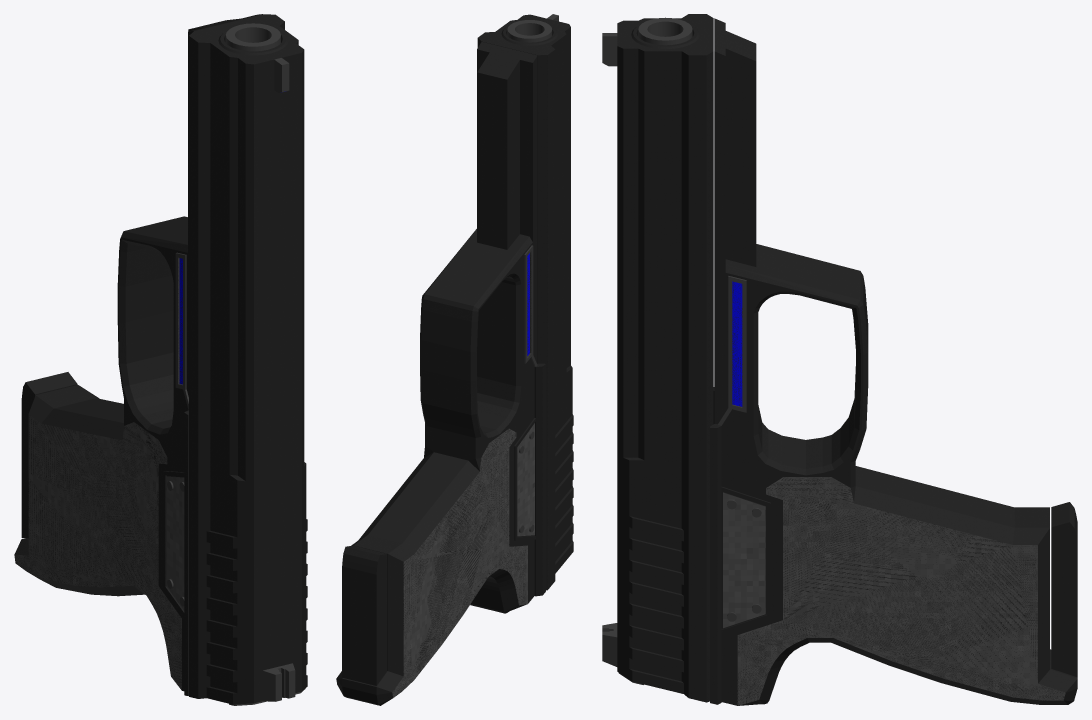
The model's file is Untitled_cyberpistol_corp_2m.fbx.
The picture shows the model from 3 angles, left to right: view 1: azimuth 30°, elevation 25°; view 2: azimuth 150°, elevation 25°; view 3: azimuth 270°, elevation 25°; orthographic projection. The views are drawn at different scales.
Parts seen in each view (by area): view 1: ID281, ID218 (×2), ID4, ID17, ID194, ID226, ID250, ID75, ID242, ID275, ID67, ID289 (+1 smaller); view 2: ID4, ID218 (×2), ID281, ID17, ID226, ID194, ID75, ID242; view 3: ID281, ID210 (×2), ID4, ID17, ID141, ID226, ID93, ID57, ID242.
Boxes of the visible parts, left/top/right/bottom form: ID281: left=189, top=14, right=307, bottom=704; ID218 (×2): left=14, top=414, right=181, bottom=690; ID4: left=14, top=14, right=262, bottom=695; ID17: left=119, top=239, right=173, bottom=434; ID194: left=166, top=476, right=184, bottom=610; ID226: left=21, top=372, right=77, bottom=538; ID250: left=262, top=663, right=295, bottom=701; ID75: left=175, top=252, right=188, bottom=410; ID242: left=225, top=23, right=280, bottom=51; ID275: left=274, top=58, right=289, bottom=93; ID67: left=179, top=258, right=182, bottom=384; ID289: left=218, top=30, right=288, bottom=55; ID4: left=336, top=42, right=545, bottom=705; ID218 (×2): left=392, top=428, right=527, bottom=697; ID281: left=477, top=14, right=573, bottom=590; ID17: left=477, top=273, right=521, bottom=437; ID226: left=342, top=545, right=387, bottom=685; ID194: left=517, top=423, right=534, bottom=536; ID75: left=524, top=245, right=537, bottom=366; ID242: left=507, top=20, right=552, bottom=42; ID281: left=617, top=14, right=713, bottom=702; ID210 (×2): left=737, top=477, right=1065, bottom=705; ID4: left=710, top=18, right=1077, bottom=705; ID17: left=753, top=291, right=860, bottom=475; ID141: left=723, top=492, right=765, bottom=628; ID226: left=1051, top=502, right=1077, bottom=677; ID93: left=717, top=276, right=746, bottom=425; ID57: left=732, top=281, right=742, bottom=406; ID242: left=638, top=17, right=692, bottom=45.
Size of the model in its own units: 6.41 by 48.05 by 31.1.
Materials: 4 (2 with a texture image).
